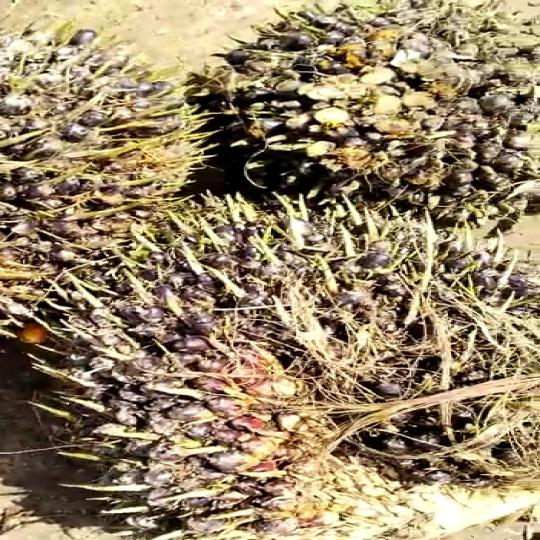mentah: (27, 195, 540, 532), (173, 0, 540, 226), (0, 18, 196, 338)
